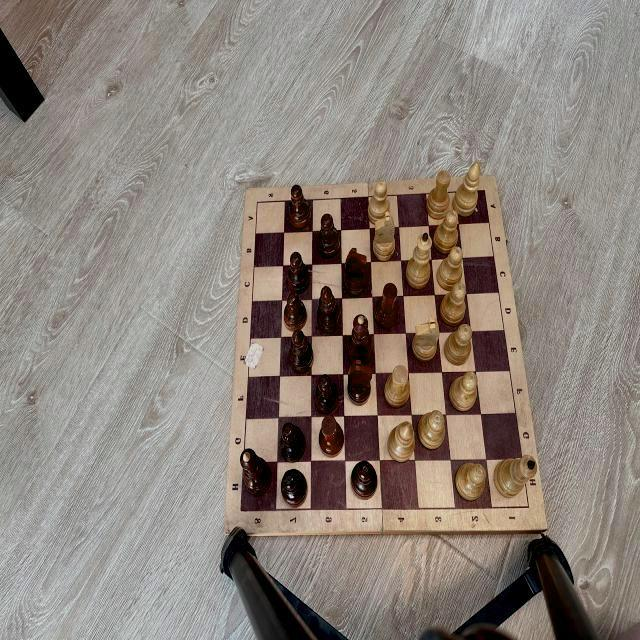chess-table-corners: (254, 198, 260, 206), (238, 507, 243, 515), (526, 503, 531, 510), (482, 187, 487, 193)
